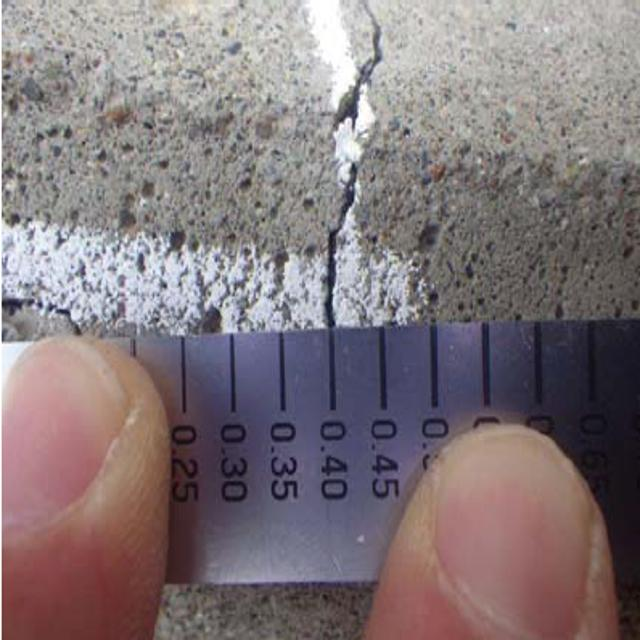crack: (286, 7, 400, 322)
